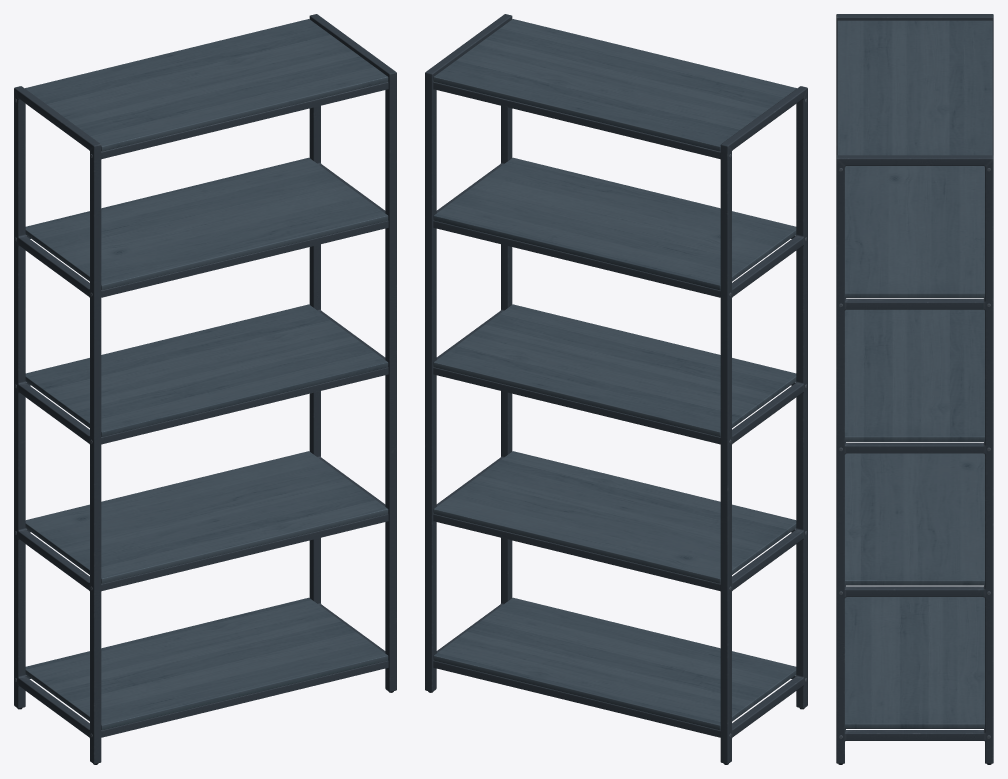
The model's file is blue_steel_shelf.gltf.
The picture shows the model from 3 angles, left to right: view 1: azimuth 30°, elevation 25°; view 2: azimuth 150°, elevation 25°; view 3: azimuth 270°, elevation 25°; orthographic projection. The views are drawn at different scales.
Parts seen in each view (by area): view 1: steel_frame_shelves_01; view 2: steel_frame_shelves_01; view 3: steel_frame_shelves_01.
Boxes of the visible parts, left/top/right/bottom form: steel_frame_shelves_01: left=14, top=14, right=396, bottom=764; steel_frame_shelves_01: left=425, top=14, right=807, bottom=764; steel_frame_shelves_01: left=836, top=14, right=993, bottom=764.
Size of the model in its own units: 10.97 by 21.41 by 5.02.
1 material, 1 textured.
